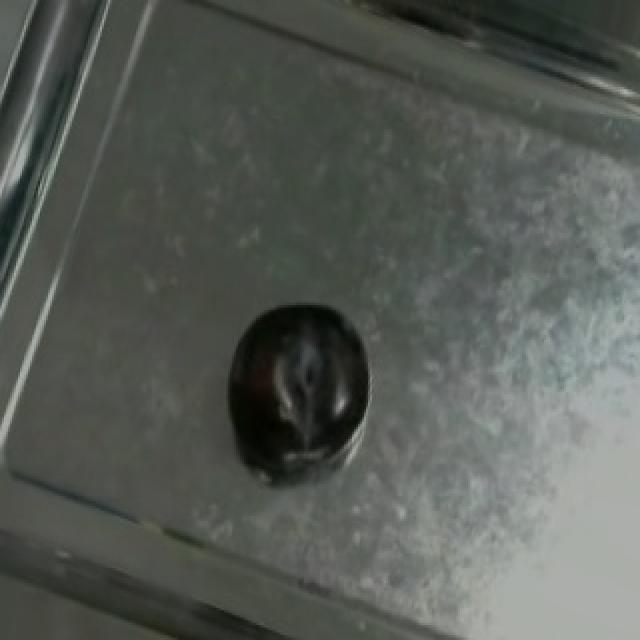Fruit: (206, 283, 380, 476)
